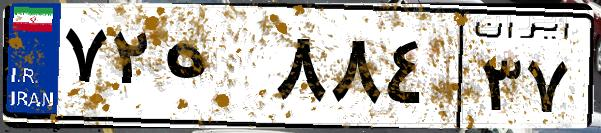2: (110, 28, 158, 98)
3: (475, 38, 525, 113)
4: (385, 28, 445, 110)
7: (57, 26, 110, 100), (525, 38, 570, 115)
8: (270, 28, 330, 110), (330, 28, 385, 110)
ه: (158, 20, 270, 120)
